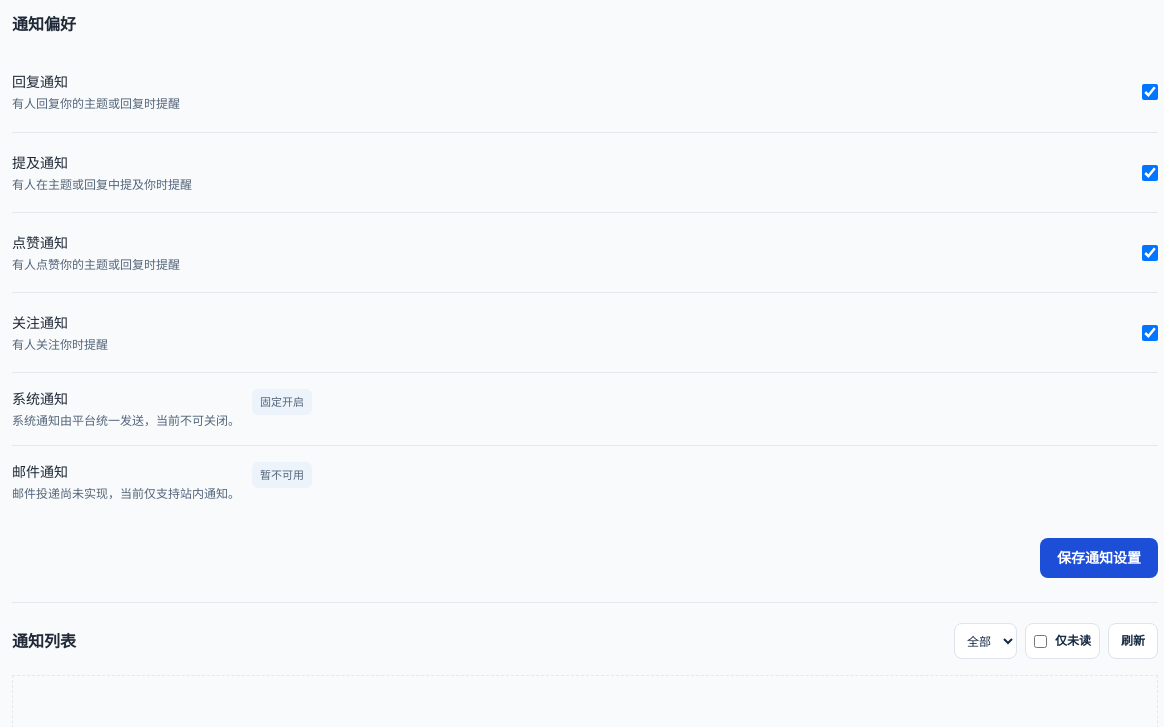
Test: notification preferences with the real API boundary › does not report an unconfirmed write as saved or replace the current draft with defaults
This screenshot has width=1164, height=727.
Click the checkbox with id "notification-preference-reply" at (1150, 92), box left=1142, top=84, right=1158, bottom=100
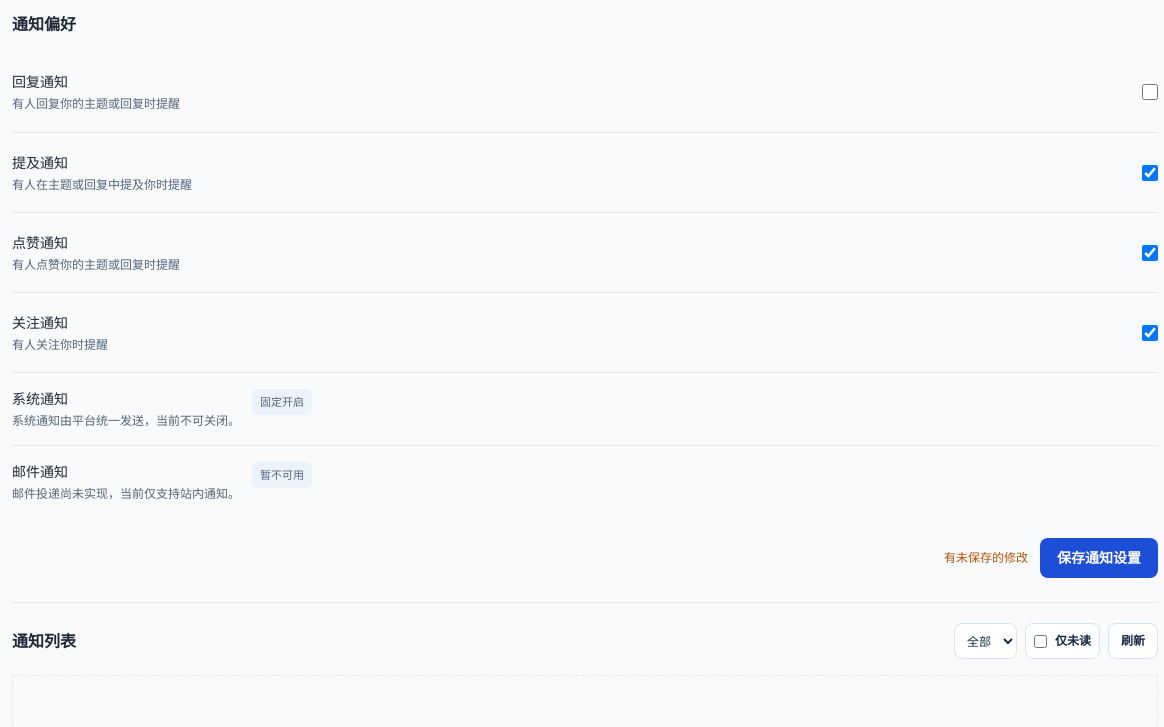
Click the button "保存通知设置" at (1099, 558), box left=1040, top=538, right=1158, bottom=578
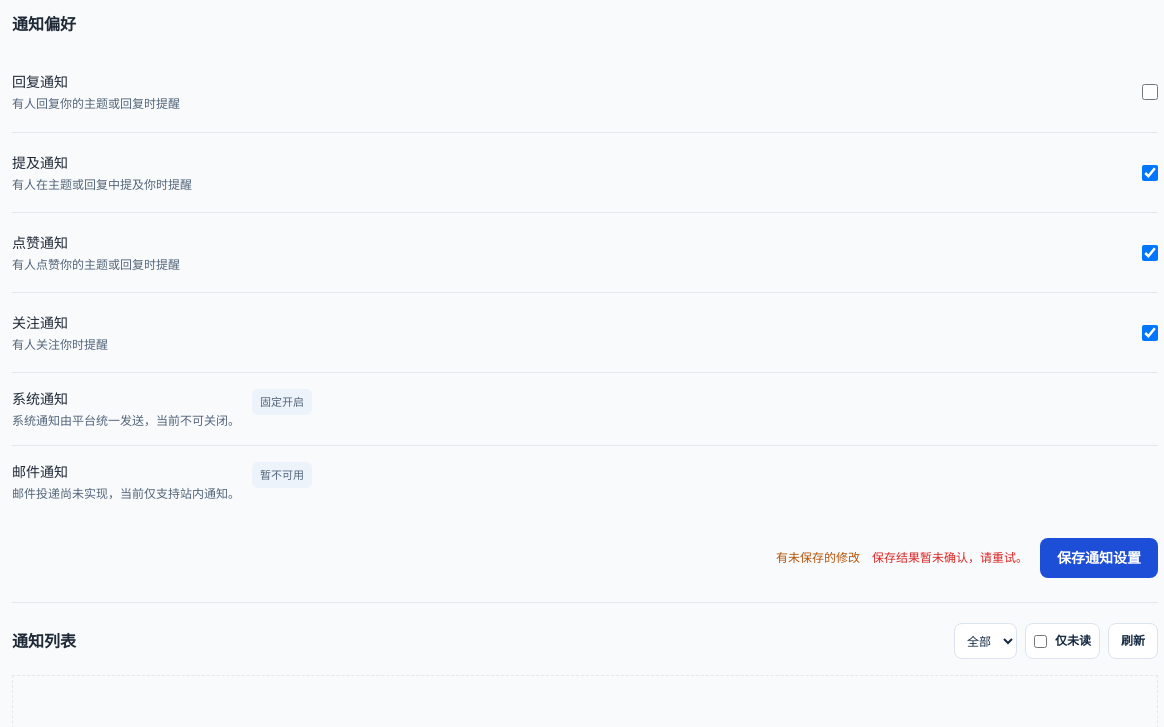
Now the checkbox with id "notification-preference-reply" is not checked, box left=1142, top=84, right=1158, bottom=100
Now the text "有未保存的修改" is shown, box left=776, top=550, right=860, bottom=566
Now the text "保存结果暂未确认，请重试。" is shown, box left=872, top=550, right=1028, bottom=566
Click the button "保存通知设置" at (1099, 558), box left=1040, top=538, right=1158, bottom=578
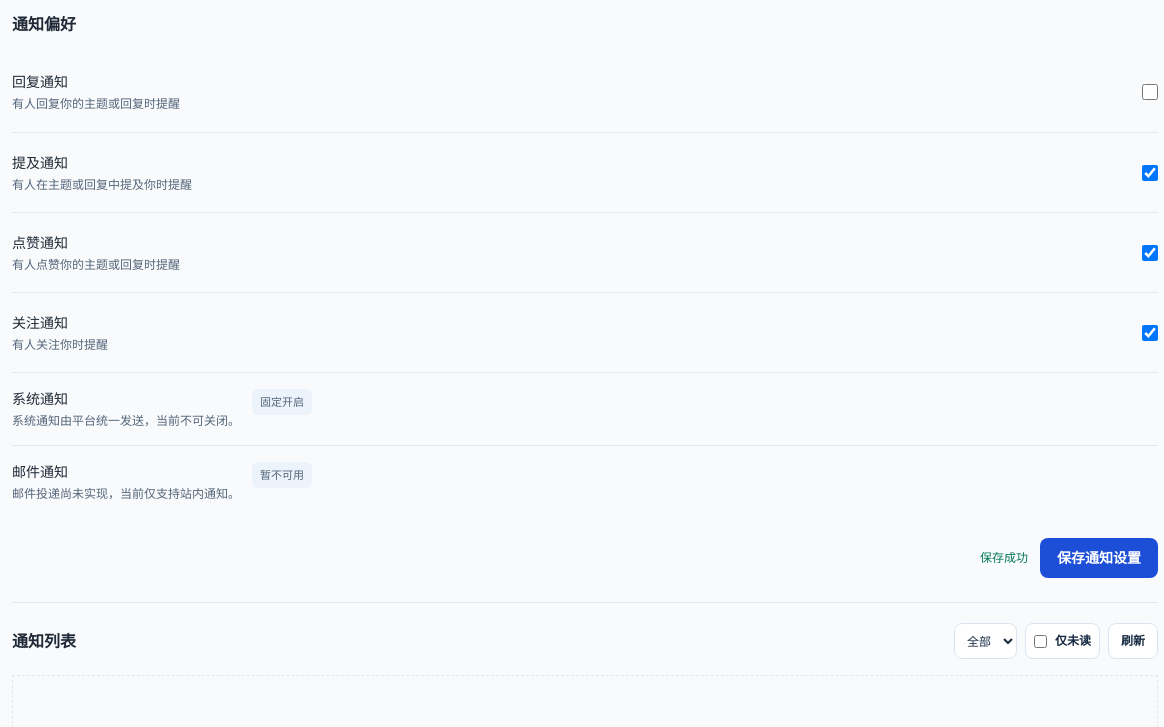
Now the text "保存成功" is shown, box left=980, top=550, right=1028, bottom=566
Now the text "有未保存的修改" is gone
